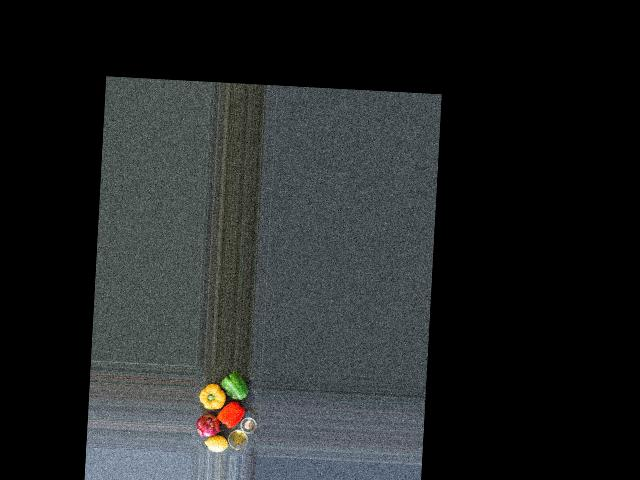bell_pepper: (216, 400, 246, 428)
